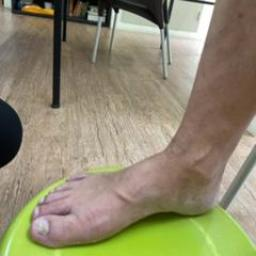Medial View -Right Foot-: (10, 99, 248, 255)
